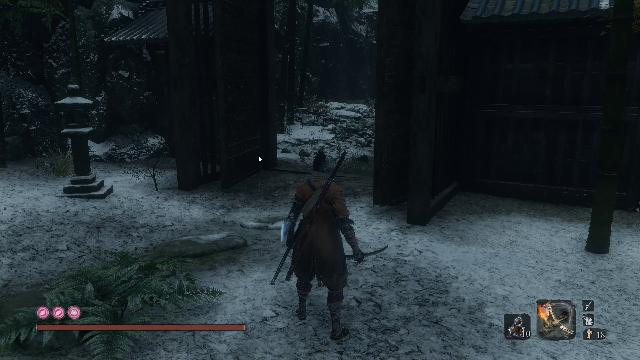sk: (270, 149, 365, 342)
